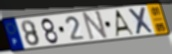2: (65, 16, 86, 42)
8: (21, 19, 41, 47), (40, 17, 59, 45)
A: (114, 9, 135, 38)
N: (82, 10, 110, 42)
X: (127, 6, 155, 36)
